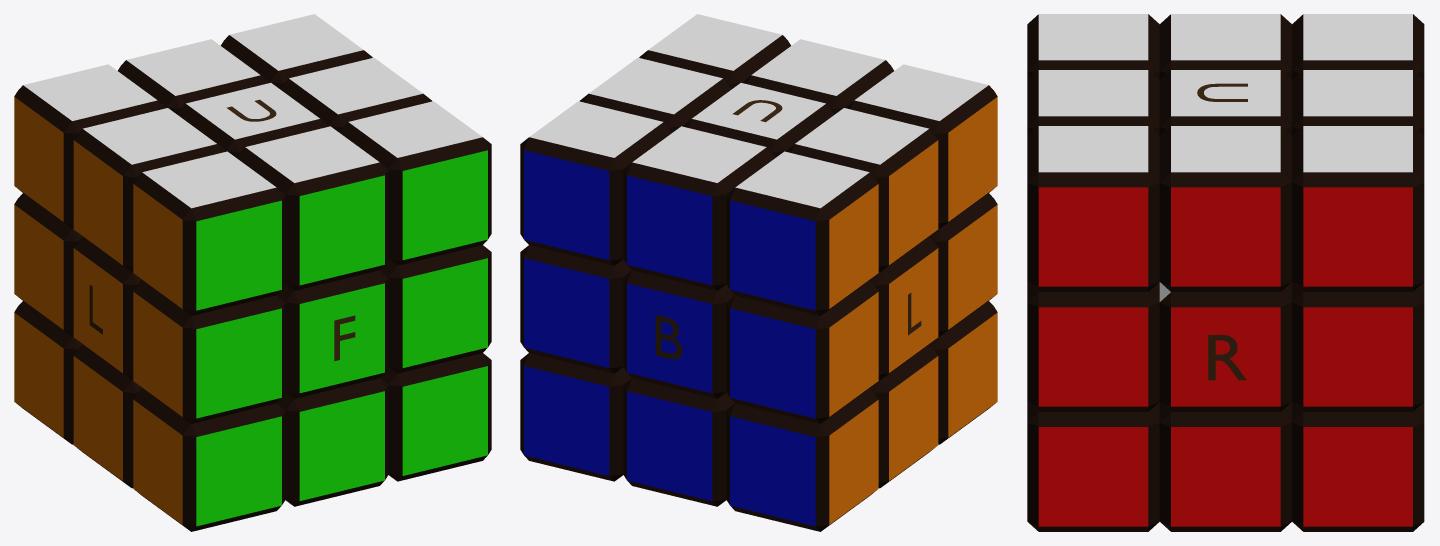
3 renders of one model, left to right at view 1: azimuth 30°, elevation 25°; view 2: azimuth 150°, elevation 25°; view 3: azimuth 270°, elevation 25°, orthographic. The views are drawn at different scales.
Visible parts, largest first — view 1: WOG, YOG, OG, WG, WGR, WO, WOB, GR, YG, YGR, G, YO (+7 smaller); view 2: WOB, YOB, OB, WB, WRB, WO, WOG, RB, YBR, YB, B, YO (+8 smaller); view 3: WR, WRB, WGR, RB, YR, YGR, GR, YBR, R, WOG, WG, WO (+4 smaller).
Boxes of the visible parts, left/top/right/bottom form: WOG: left=133, top=151, right=285, bottom=315; YOG: left=133, top=388, right=285, bottom=531; OG: left=133, top=280, right=285, bottom=423; WG: left=237, top=126, right=388, bottom=290; WGR: left=340, top=101, right=491, bottom=265; WO: left=73, top=108, right=225, bottom=272; WOB: left=14, top=64, right=166, bottom=228; GR: left=380, top=245, right=491, bottom=373; YG: left=277, top=378, right=388, bottom=506; YGR: left=380, top=353, right=491, bottom=481; G: left=277, top=270, right=388, bottom=398; YO: left=73, top=344, right=141, bottom=488; WOB: left=726, top=151, right=878, bottom=315; YOB: left=726, top=388, right=878, bottom=531; OB: left=726, top=280, right=878, bottom=423; WB: left=623, top=126, right=774, bottom=290; WRB: left=520, top=101, right=671, bottom=265; WO: left=786, top=108, right=938, bottom=272; WOG: left=845, top=64, right=997, bottom=228; RB: left=520, top=245, right=631, bottom=373; YBR: left=520, top=353, right=631, bottom=481; YB: left=623, top=378, right=734, bottom=506; B: left=623, top=270, right=734, bottom=398; YO: left=870, top=344, right=938, bottom=488; WR: left=1159, top=126, right=1291, bottom=291; WRB: left=1292, top=126, right=1424, bottom=291; WGR: left=1027, top=126, right=1159, bottom=291; RB: left=1292, top=282, right=1424, bottom=411; YR: left=1159, top=402, right=1291, bottom=531; YGR: left=1027, top=402, right=1159, bottom=531; GR: left=1027, top=282, right=1159, bottom=411; YBR: left=1292, top=402, right=1424, bottom=531; R: left=1159, top=282, right=1291, bottom=411; WOG: left=1027, top=14, right=1159, bottom=79; WG: left=1027, top=70, right=1159, bottom=135; WO: left=1159, top=14, right=1291, bottom=79.
Size of the model in its own units: 1.81 by 1.8 by 1.81.
